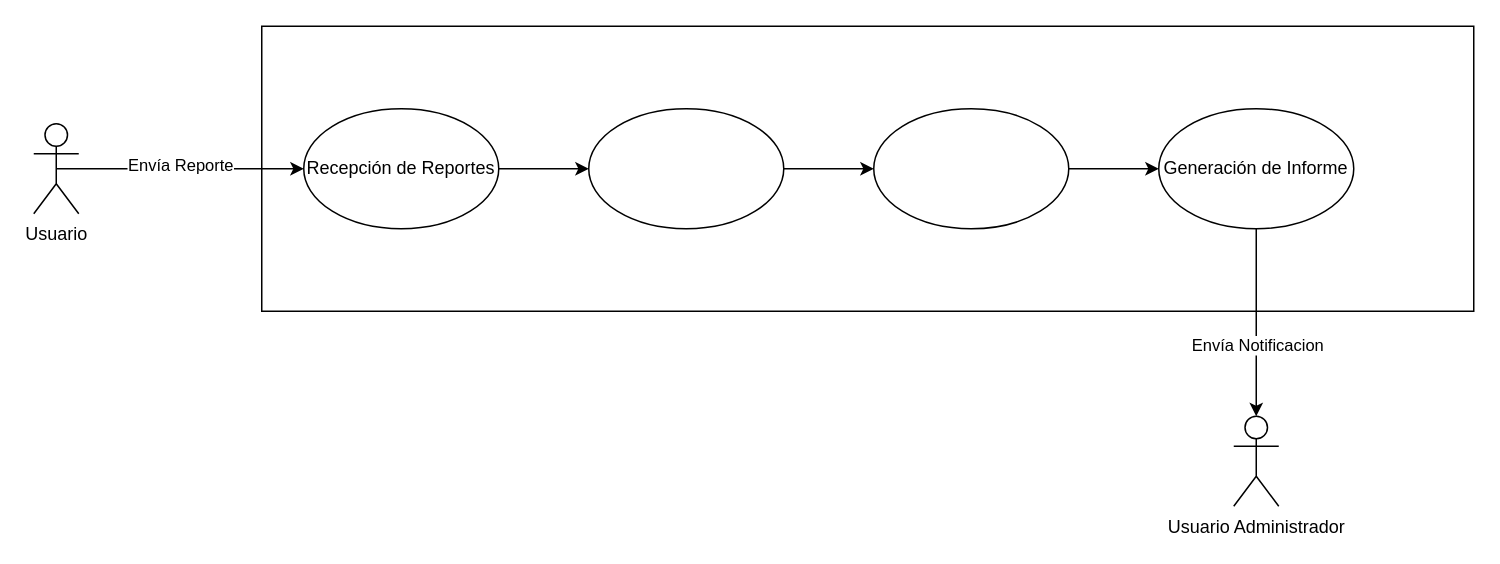
Image size: 1500x564. Some labels were removed from this diagram. The centre of each missing label's shape, as x and y in pixels:
Almacenamiento de Reporte: point (685, 168)
Categorización y Priorizacion: point (970, 168)
